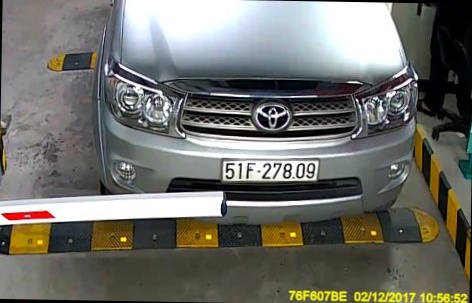plate: (223, 151, 322, 189)
